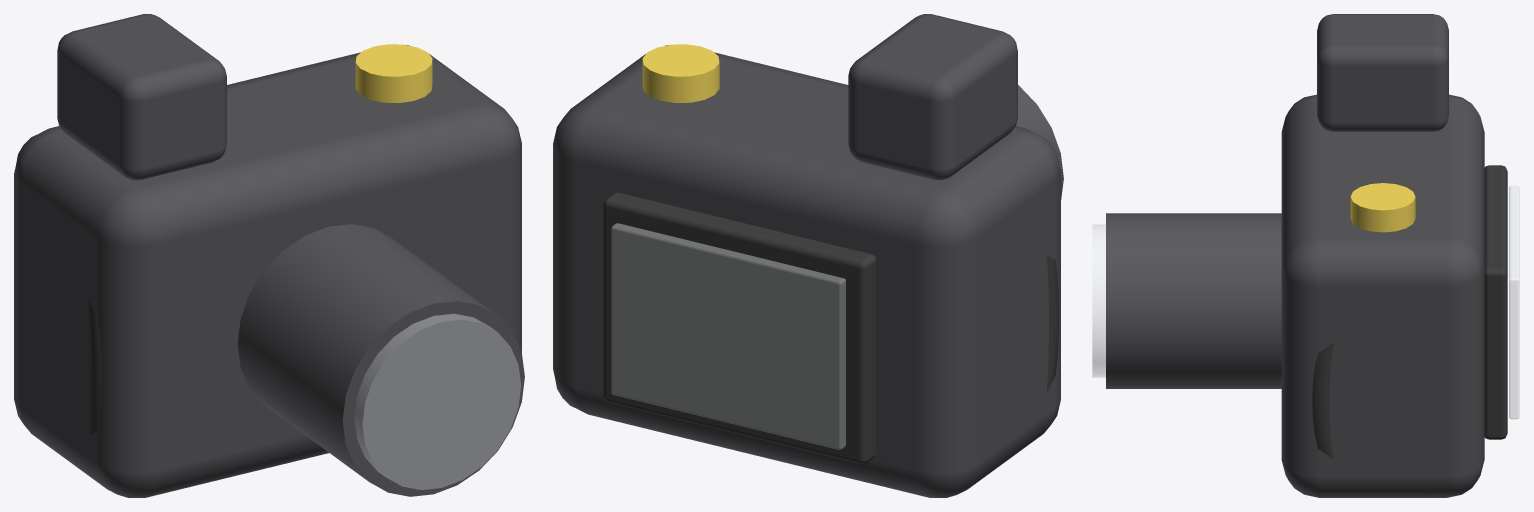
File: paranormal-investigation-house-photo-camera-34d93261__26797.glb
3 renders of one model, left to right at view 1: azimuth 30°, elevation 25°; view 2: azimuth 150°, elevation 25°; view 3: azimuth 270°, elevation 25°, orthographic. The views are drawn at different scales.
Visible parts, largest first — view 1: photo-camera; view 2: photo-camera; view 3: photo-camera.
Boxes of the visible parts, bbox=[...] form: photo-camera: bbox=[14, 14, 524, 497]; photo-camera: bbox=[553, 14, 1063, 497]; photo-camera: bbox=[1092, 14, 1519, 497].
Bounding box in the file's own units: 0.1516 × 0.14 × 0.158.
